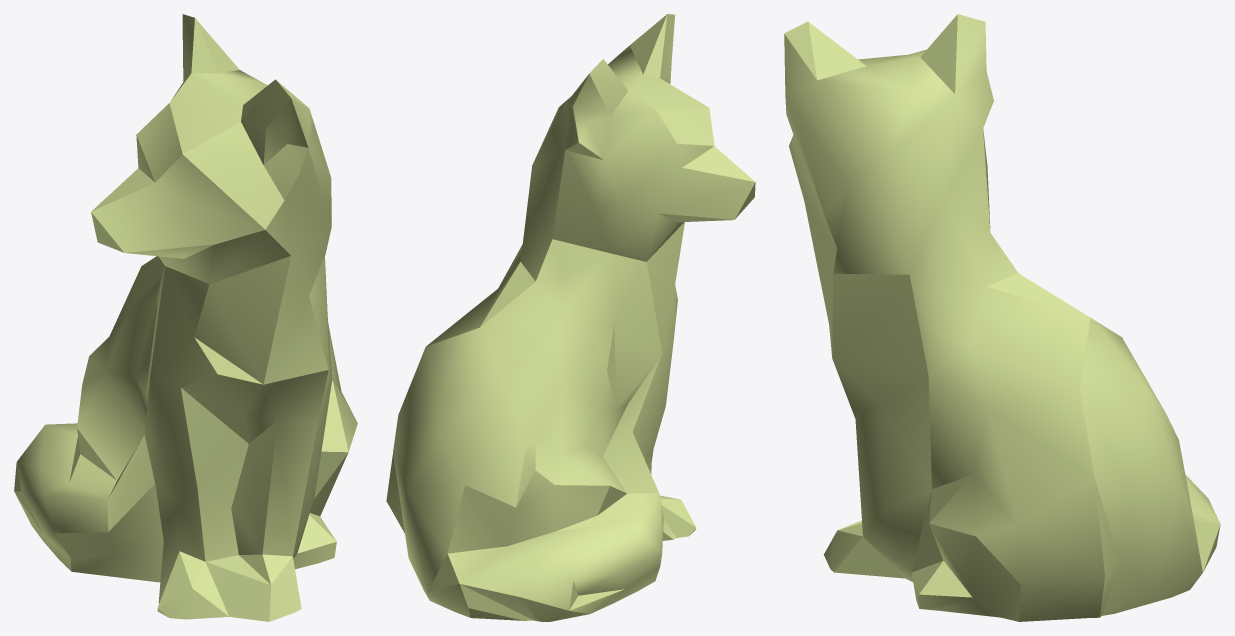
File: low_poly_fox.obj
The picture shows the model from 3 angles, left to right: view 1: azimuth 30°, elevation 25°; view 2: azimuth 150°, elevation 25°; view 3: azimuth 270°, elevation 25°; orthographic projection. The views are drawn at different scales.
Parts seen in each view (by area): view 1: Low_Poly_Fox; view 2: Low_Poly_Fox; view 3: Low_Poly_Fox.
Part boxes in pixels (x1,y1,x2,y2): Low_Poly_Fox: (14,14,357,621); Low_Poly_Fox: (386,14,755,621); Low_Poly_Fox: (784,14,1220,621).
Size of the model in its own units: 63.73 by 107 by 78.35.
